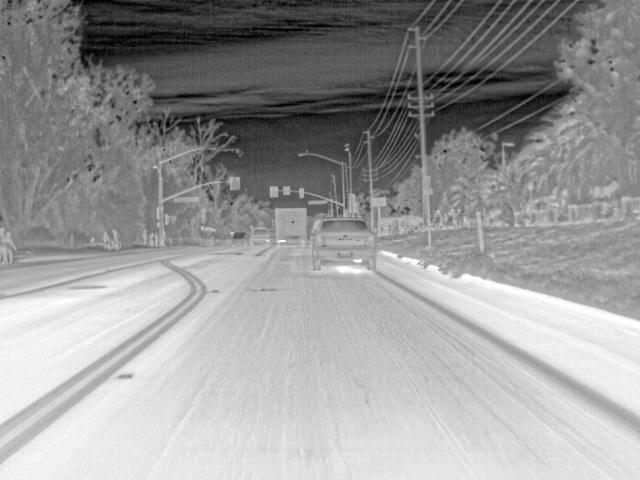car: (310, 218, 377, 274), (248, 225, 270, 245), (230, 230, 246, 244)
person: (0, 228, 16, 266), (110, 227, 120, 239), (101, 228, 110, 241)
